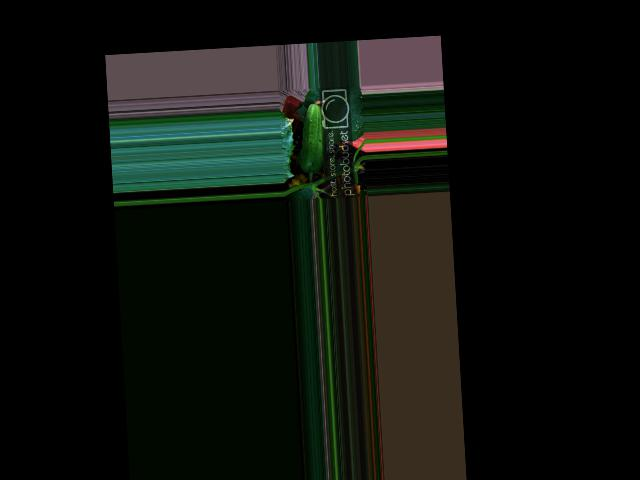cucumber: (297, 102, 328, 172)
